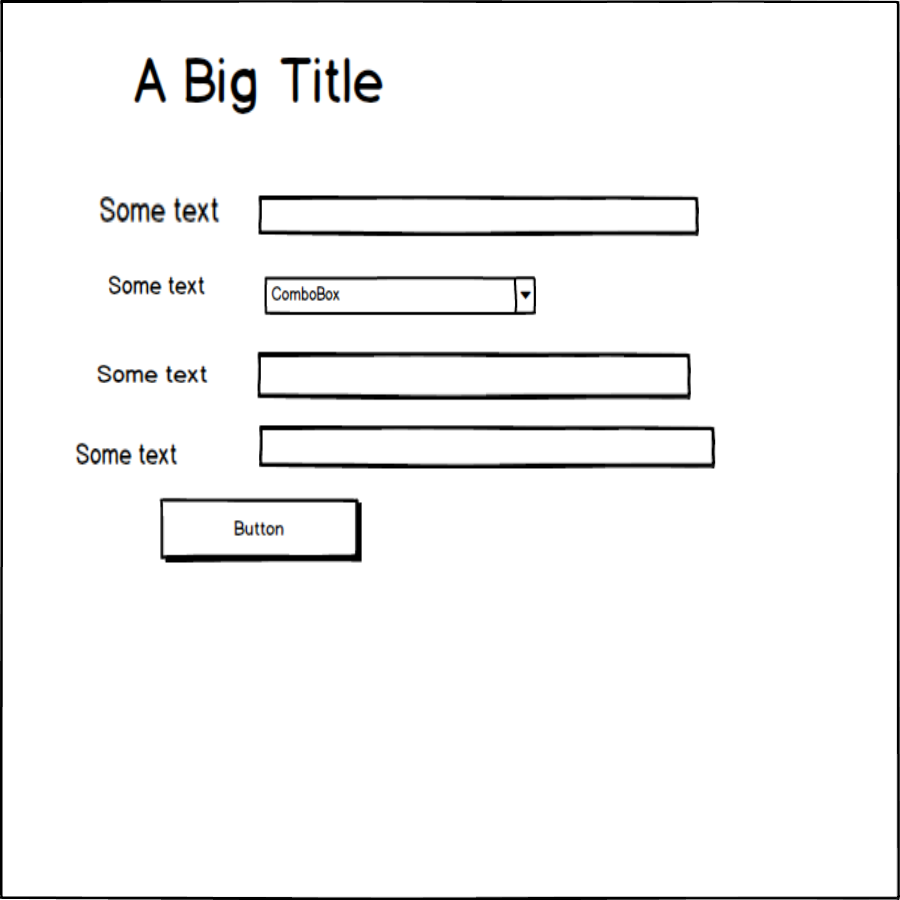button: (153, 495, 372, 566)
h1: (115, 45, 396, 126)
input: (257, 419, 720, 480), (252, 345, 697, 404), (256, 192, 704, 244)
label: (94, 182, 226, 234), (100, 262, 213, 308), (90, 354, 213, 393), (68, 441, 192, 467)
select_box: (260, 271, 544, 322)
